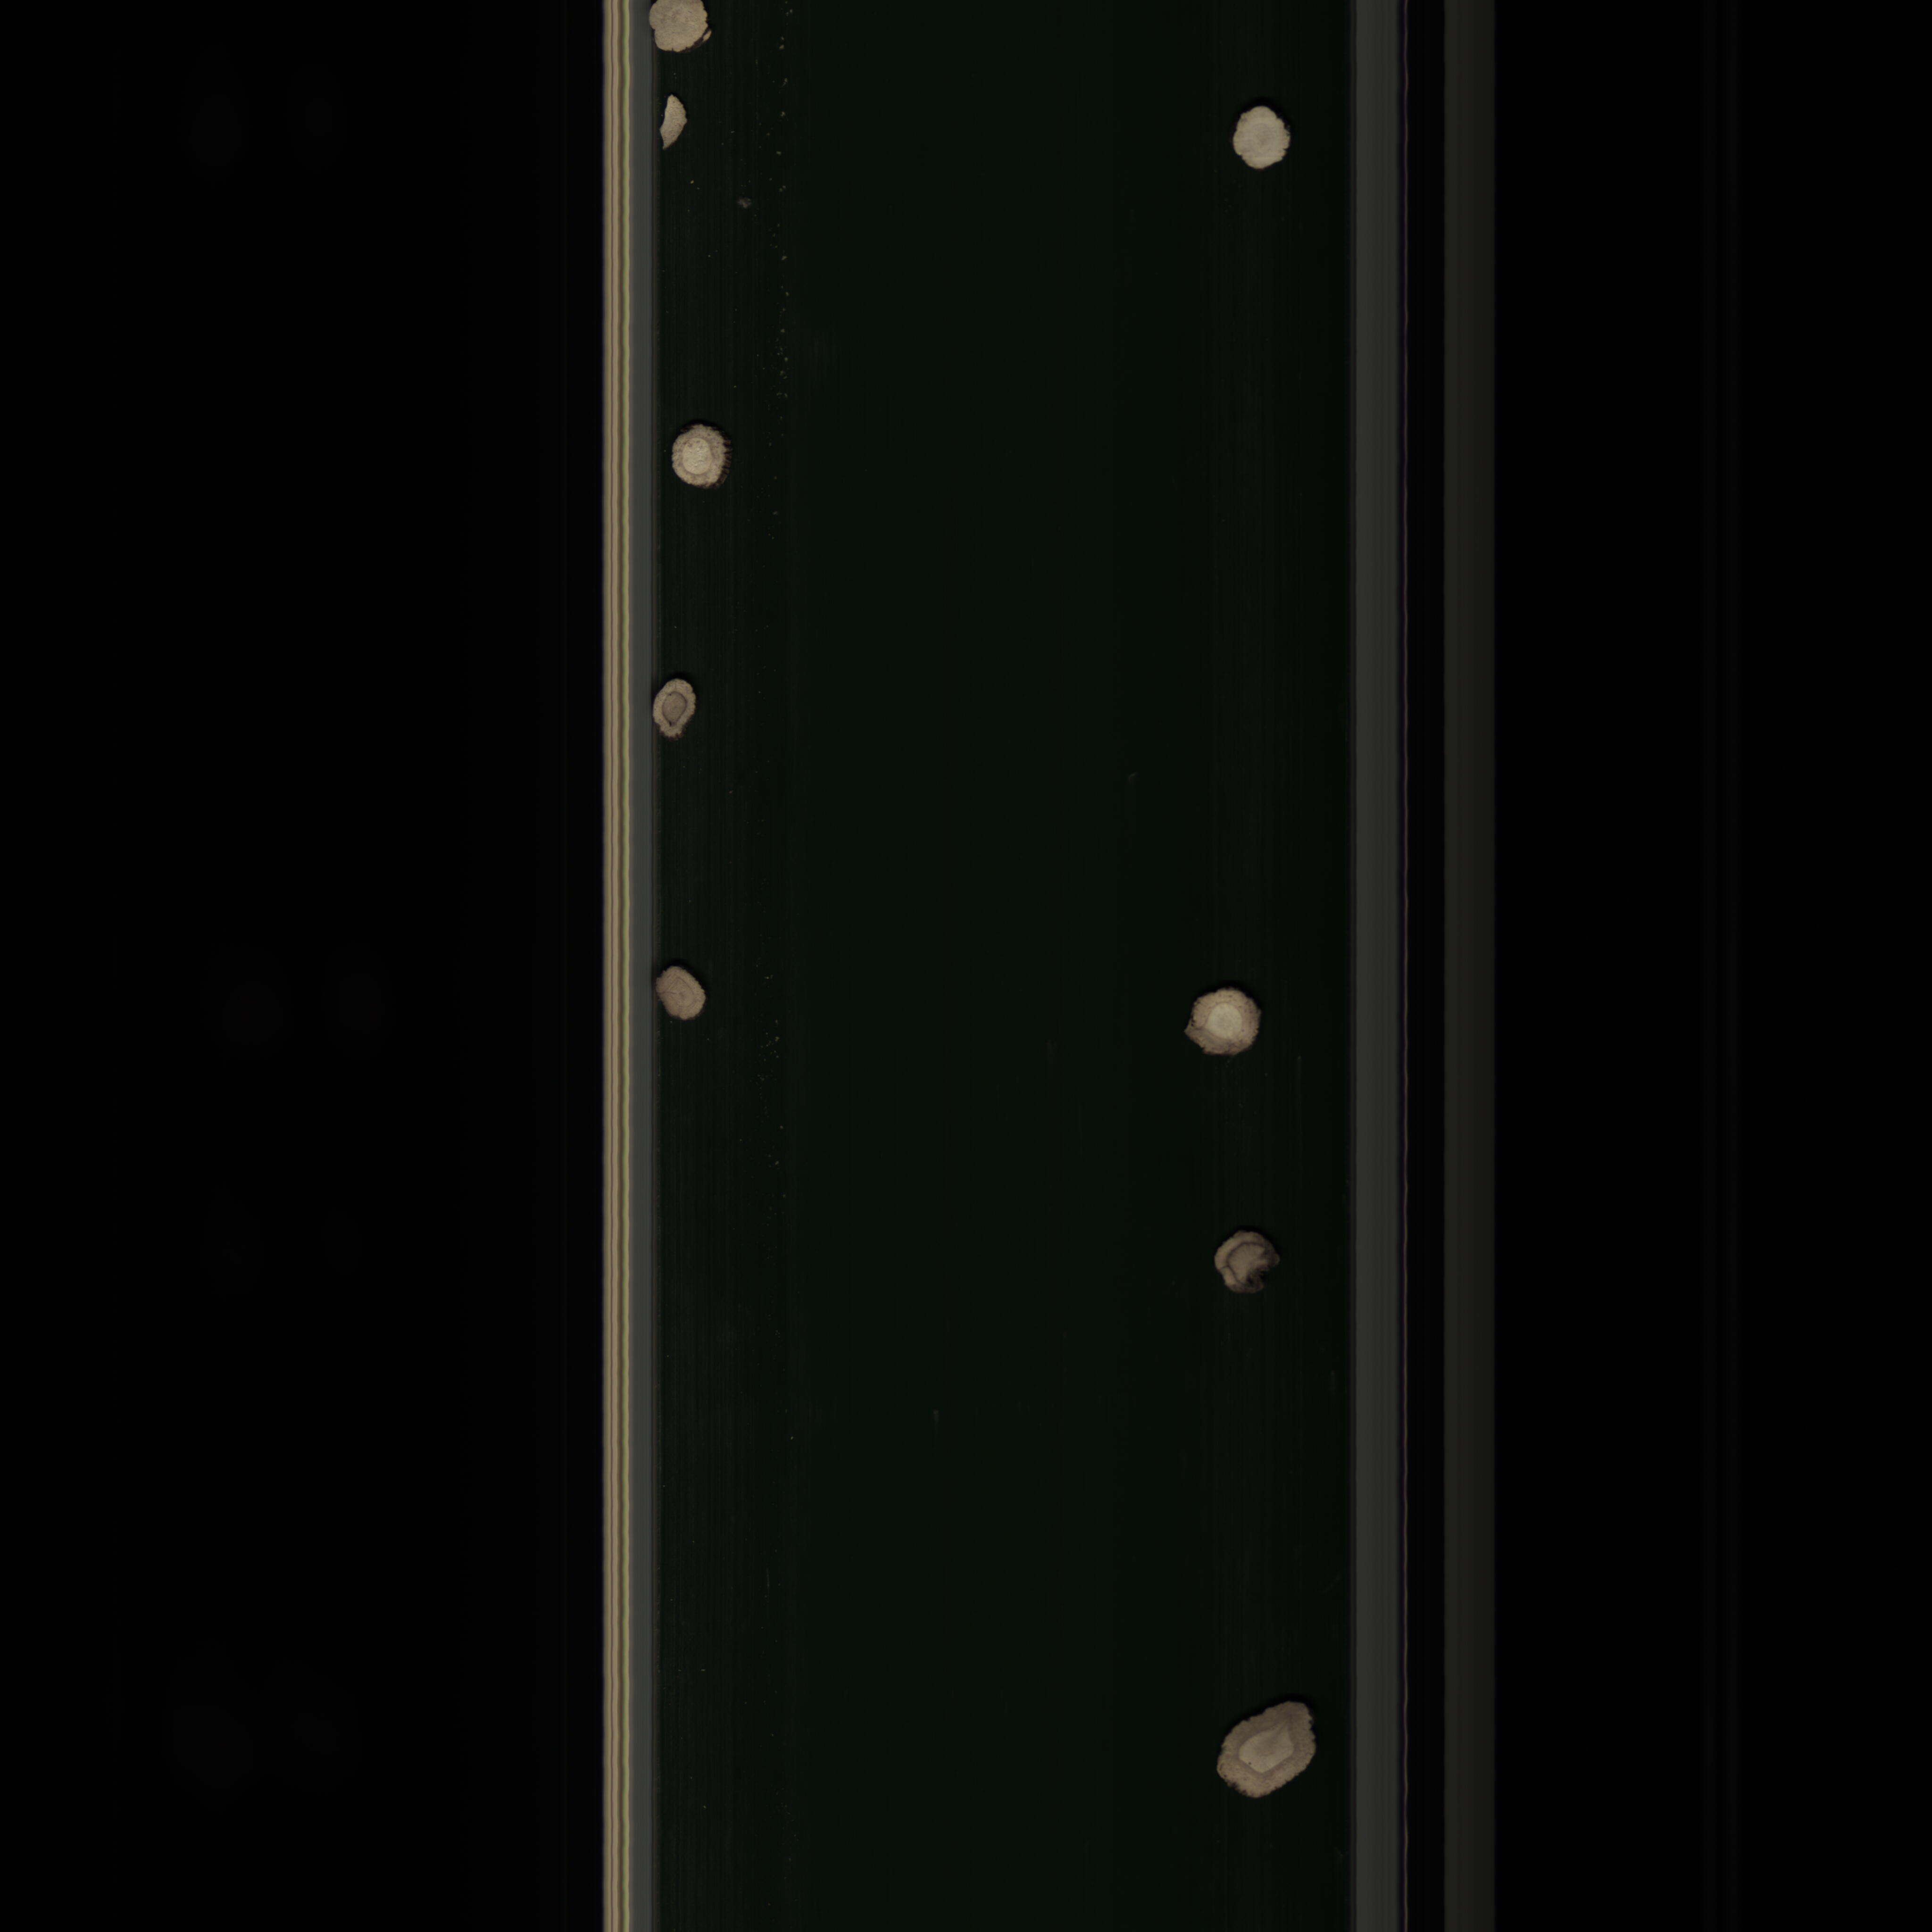debris: (649, 88, 701, 154)
moldy: (1200, 1223, 1283, 1299), (651, 674, 697, 747)
